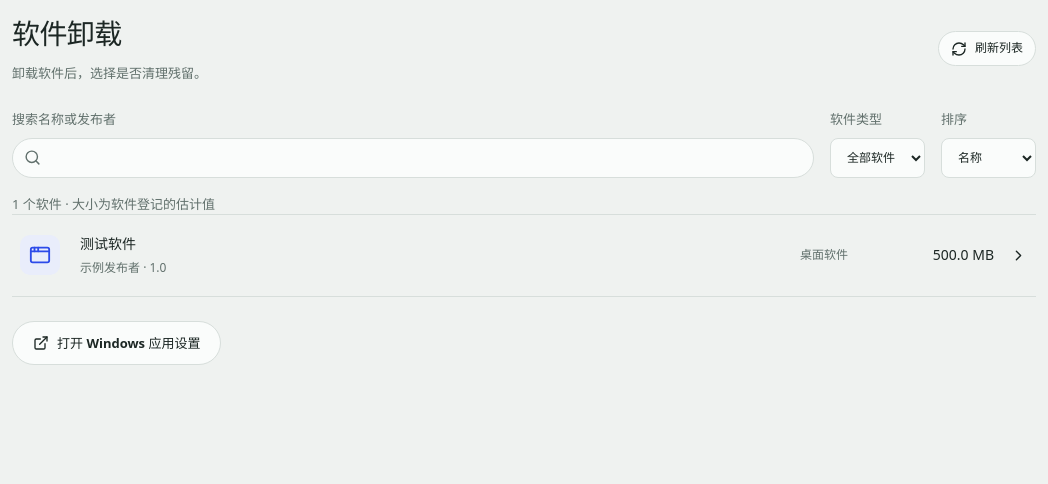
software removal › loads only on entry and searches without changing system state
This screenshot has width=1048, height=484.
Expected: the button "测试软件 示例发布者 · 1.0 桌面软件 500.0 MB" is shown, [12,215,1036,297]
Type "missing" into the search field labelled "搜索名称或发布者".
click(413, 158); type("missing")  # box [12,138,814,178]
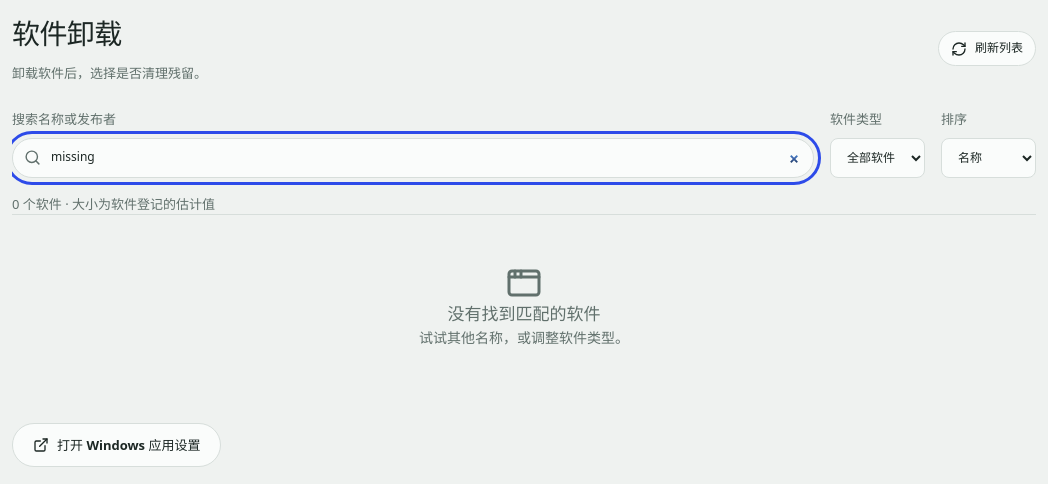
Expected: the heading "没有找到匹配的软件" is shown, [448,301,600,327]
